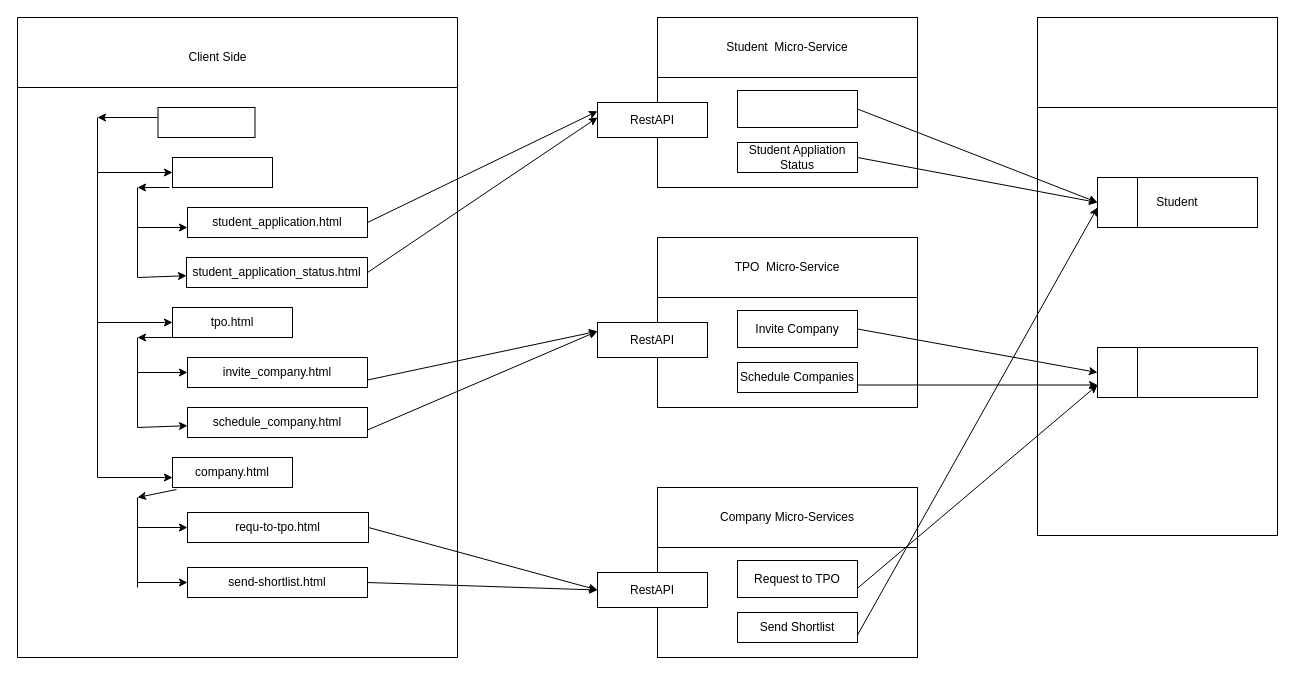
Some shapes in this 1295 by 676 pixel diagram are drawn without their labels. Here are the shapes that lost their labels. From the top down, the box of each, then its label:
(1036, 16, 1278, 108): DataBase
(157, 106, 255, 138): home.htmll
(736, 90, 858, 128): Student Application
(172, 156, 272, 188): student.html
(1096, 346, 1258, 398): Company
